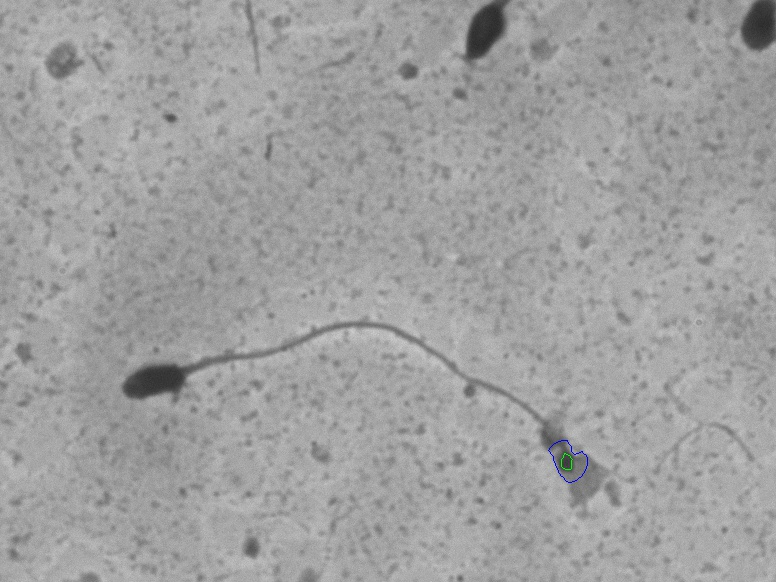Abnormal: (58, 281, 553, 487)
